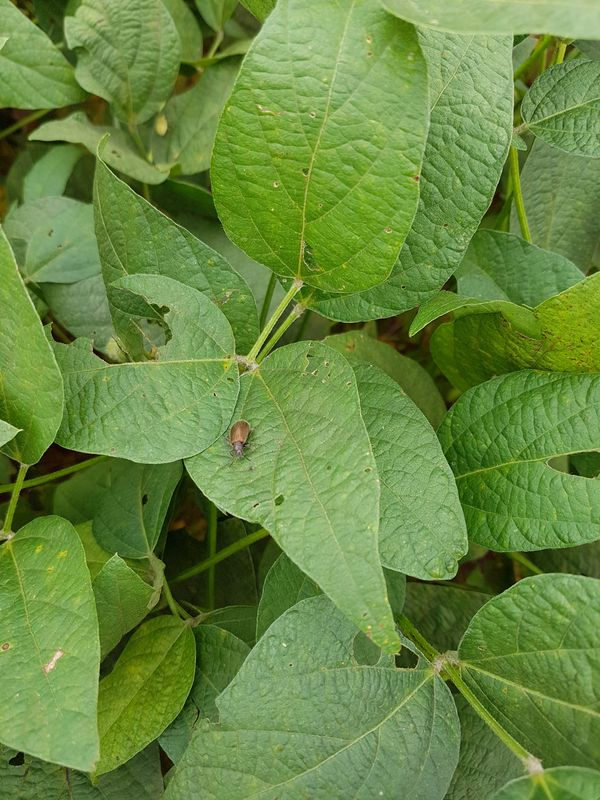Lagria_villosa: (216, 415, 260, 466)
